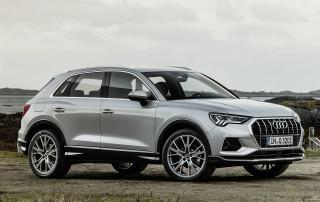Audi: (270, 118, 292, 131)
